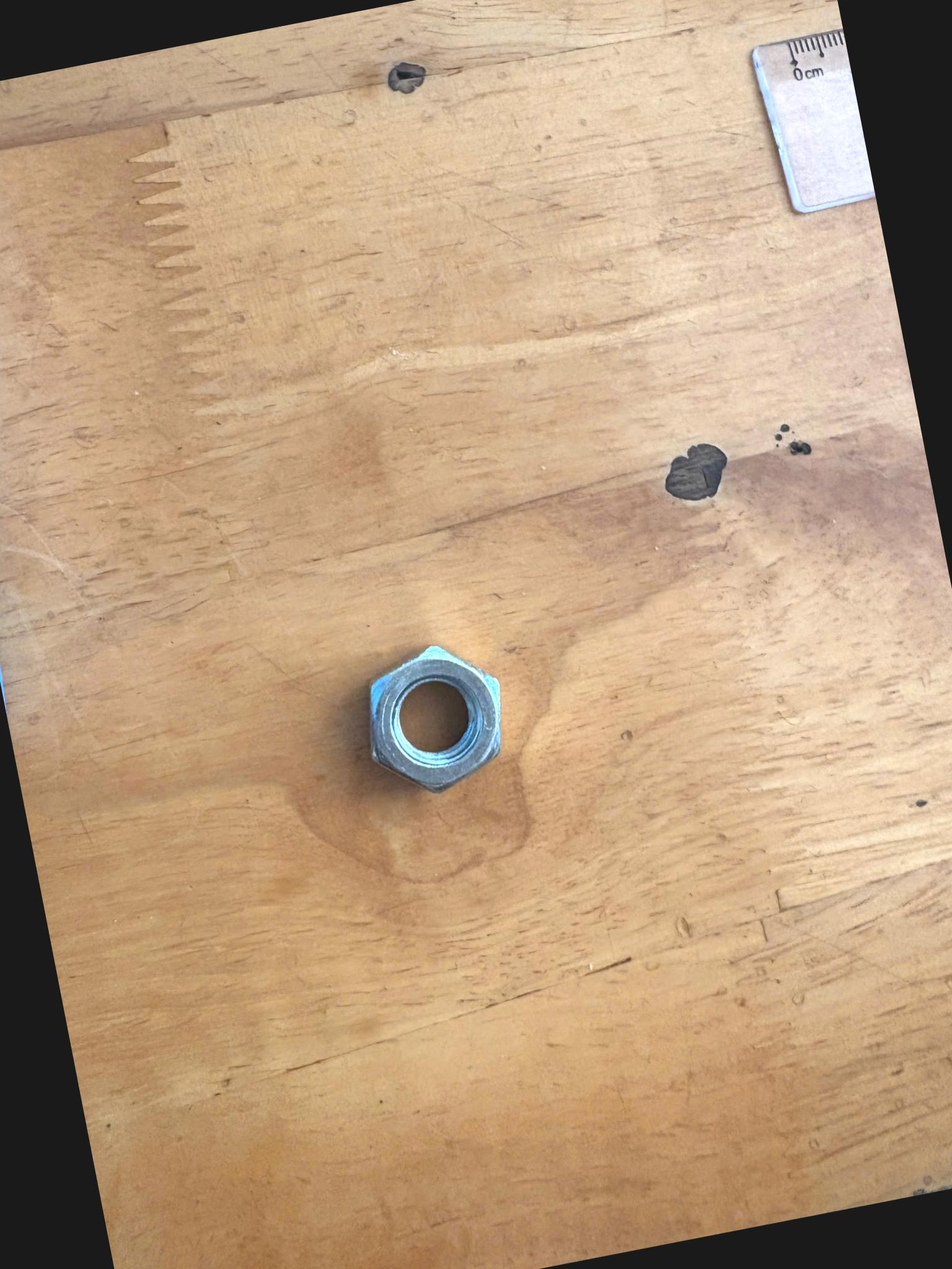nut: (336, 608, 543, 825)
